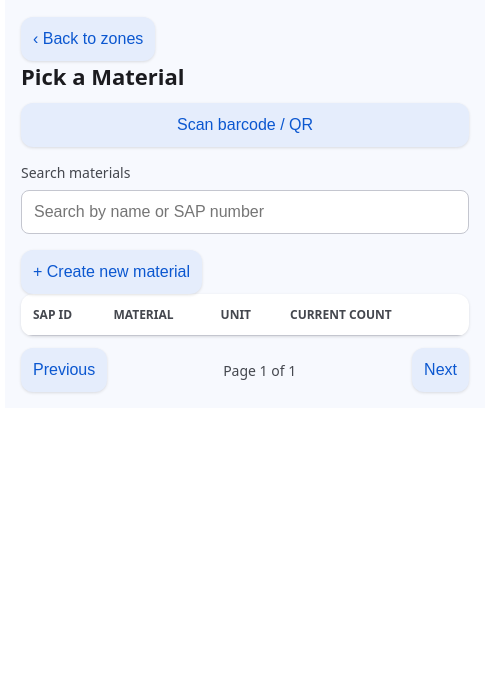
it: MaterialPickerPage › auto-formats a typed SAP number with dashes when creating inline
Check: the table is shown, box left=21, top=294, right=469, bottom=336
Click the button "+ Create new material": (112, 272) left=21, top=250, right=202, bottom=294
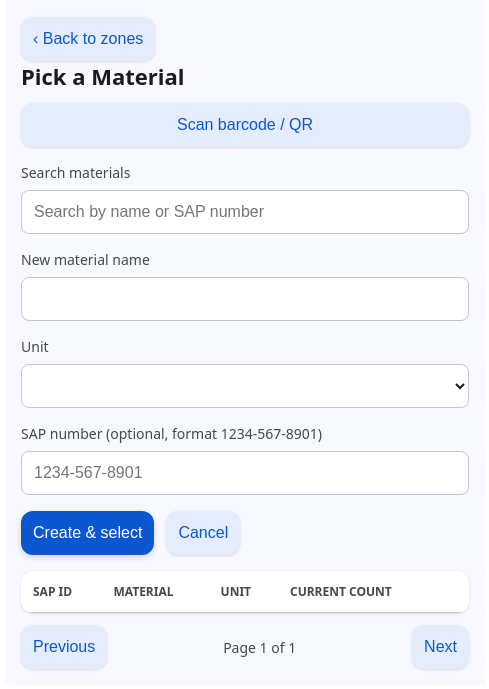
In the field labelled "SAP number (optional, format 1234-567-8901)": (245, 473) left=21, top=451, right=469, bottom=495, type "12345678901"
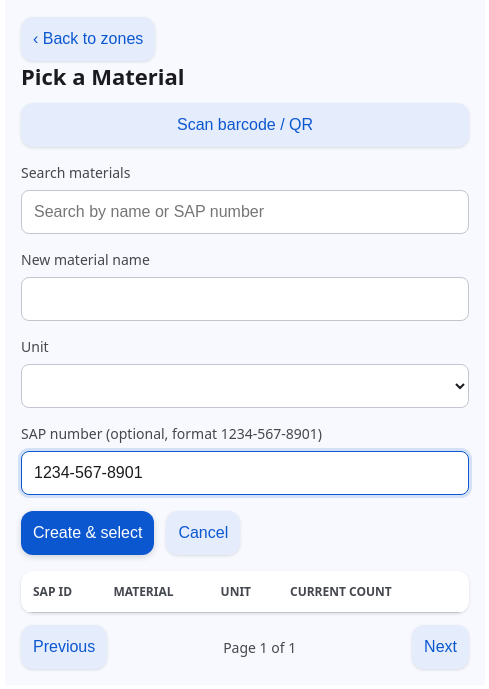
Check: the field labelled "SAP number (optional, format 1234-567-8901)" holds "1234-567-8901", box left=21, top=451, right=469, bottom=495
